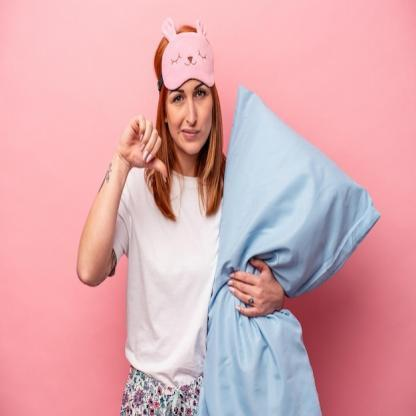thumb_down: (116, 112, 168, 184)
